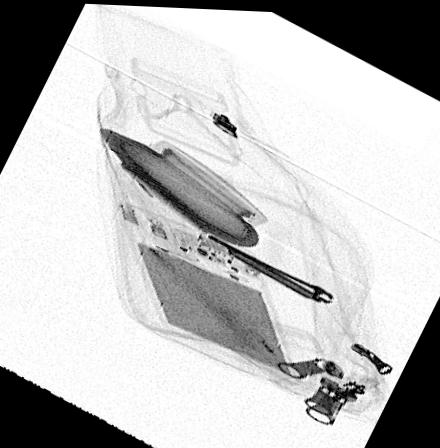Powerbank: (120, 197, 299, 382)
